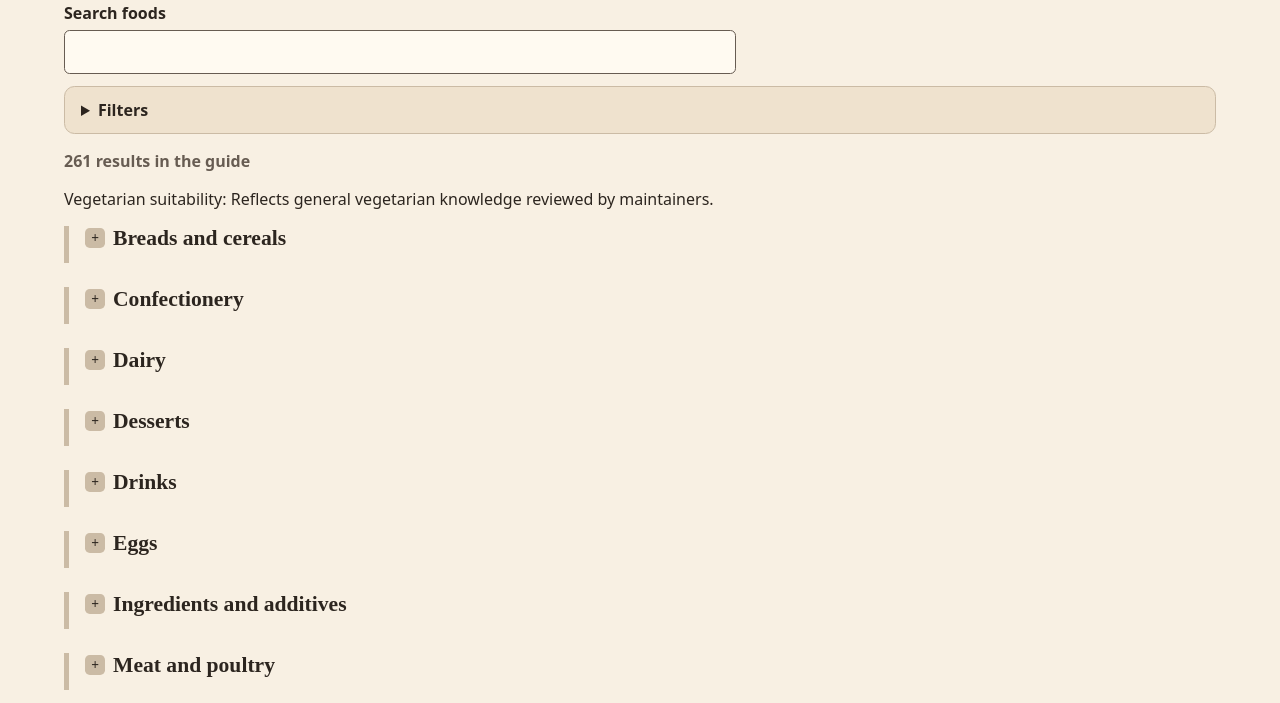
Test: CataloguePage › collapses top-level groups by default and reveals descendants when one is expanded
(page scrolled)
Click the button with aria-label "Dairy, level 1" at (125, 360), box [85, 348, 166, 373]
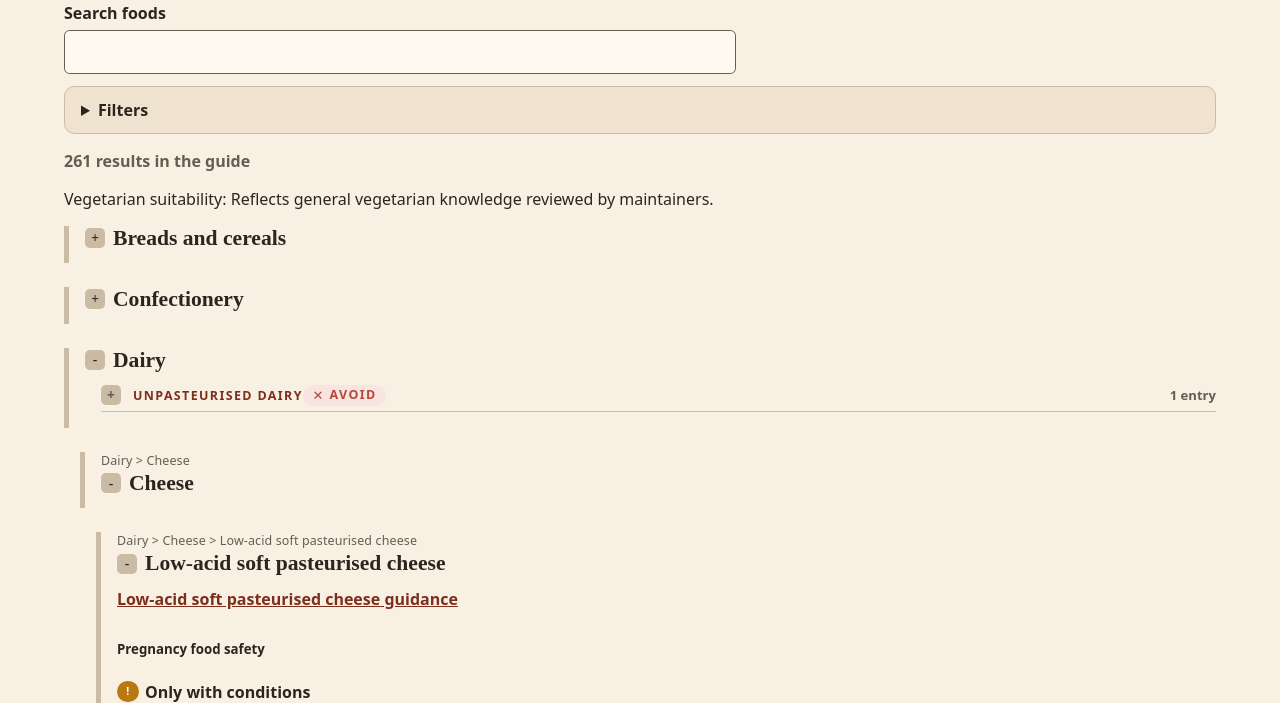
Expected: the button with aria-label "Dairy, level 1" is expanded, [85, 348, 166, 373]
Expected: the button with aria-label "Cheese, level 2" is shown, [101, 471, 194, 496]
